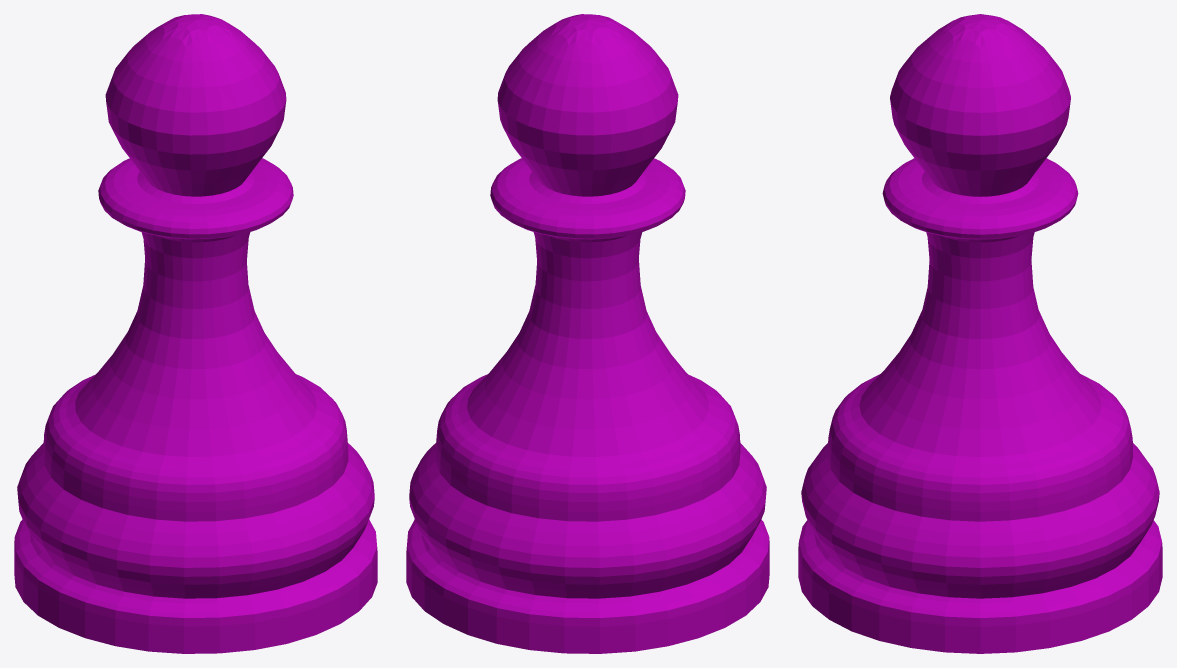
Rendered from pawn_b.gltf.
3 views of the same model, side by side, from view 1: azimuth 30°, elevation 25°; view 2: azimuth 150°, elevation 25°; view 3: azimuth 270°, elevation 25° (orthographic).
Visible parts, largest first — view 1: Pawn.MAGENTA; view 2: Pawn.MAGENTA; view 3: Pawn.MAGENTA.
Boxes of the visible parts, box(x1,y1,x2,y2) form: Pawn.MAGENTA: box(14, 14, 377, 653); Pawn.MAGENTA: box(406, 14, 769, 653); Pawn.MAGENTA: box(798, 14, 1162, 653).
Size of the model in its own units: 0.4542 by 0.7655 by 0.4542.
